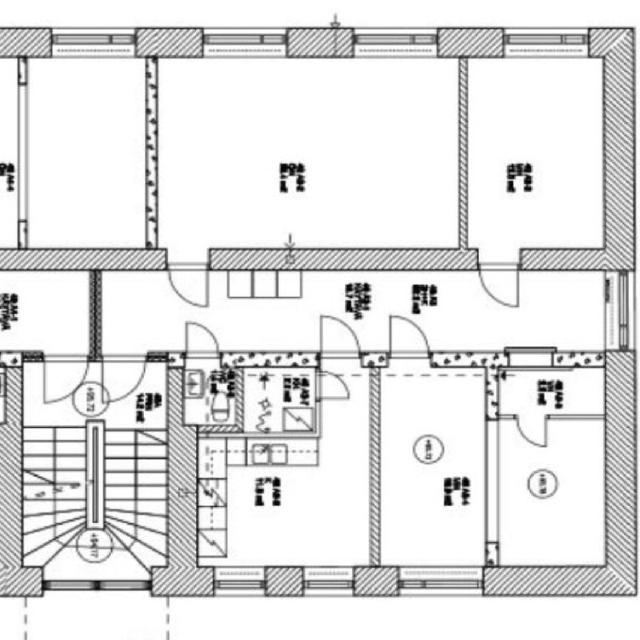door: (148, 49, 447, 258), (38, 346, 90, 406), (163, 256, 215, 314), (473, 256, 524, 314), (99, 348, 147, 406), (313, 311, 364, 364), (382, 313, 434, 362), (176, 316, 223, 363), (311, 367, 357, 407), (513, 410, 553, 452)
window: (0, 66, 34, 248), (497, 18, 598, 66), (196, 19, 295, 63), (44, 19, 140, 63), (346, 21, 444, 64), (392, 562, 489, 602), (602, 273, 636, 358), (287, 563, 363, 601), (208, 566, 274, 603), (39, 573, 97, 596), (91, 576, 158, 595)
zone: (461, 51, 610, 265), (19, 52, 160, 260), (194, 444, 376, 588), (374, 360, 489, 585), (486, 422, 614, 568), (180, 356, 322, 444), (0, 272, 96, 360), (23, 586, 172, 640), (18, 424, 94, 526)
